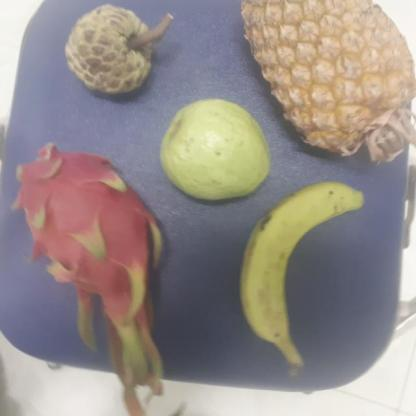annona: (62, 5, 160, 98)
banana: (238, 185, 360, 345)
guava: (156, 99, 270, 197)
pineapple: (246, 0, 408, 161)
pitaya: (10, 149, 164, 339)
